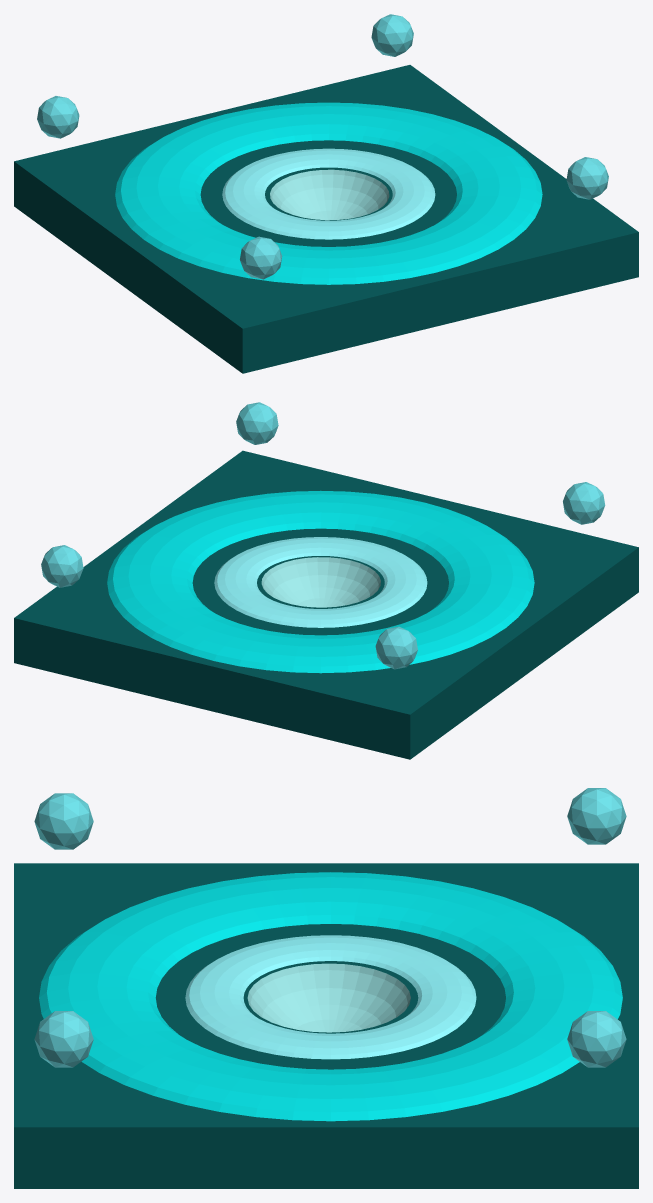
The model's file is ballholder.fbx.
3 renders of one model, top to bottom at view 1: azimuth 30°, elevation 25°; view 2: azimuth 150°, elevation 25°; view 3: azimuth 270°, elevation 25°, orthographic. The views are drawn at different scales.
Visible parts, largest first — view 1: holder; view 2: holder; view 3: holder.
Part boxes in pixels (x1,y1,x2,y2): holder: [14, 14, 638, 373]; holder: [14, 402, 638, 759]; holder: [14, 788, 638, 1188].
Bounding box in the file's own units: 583 × 159 × 583.
